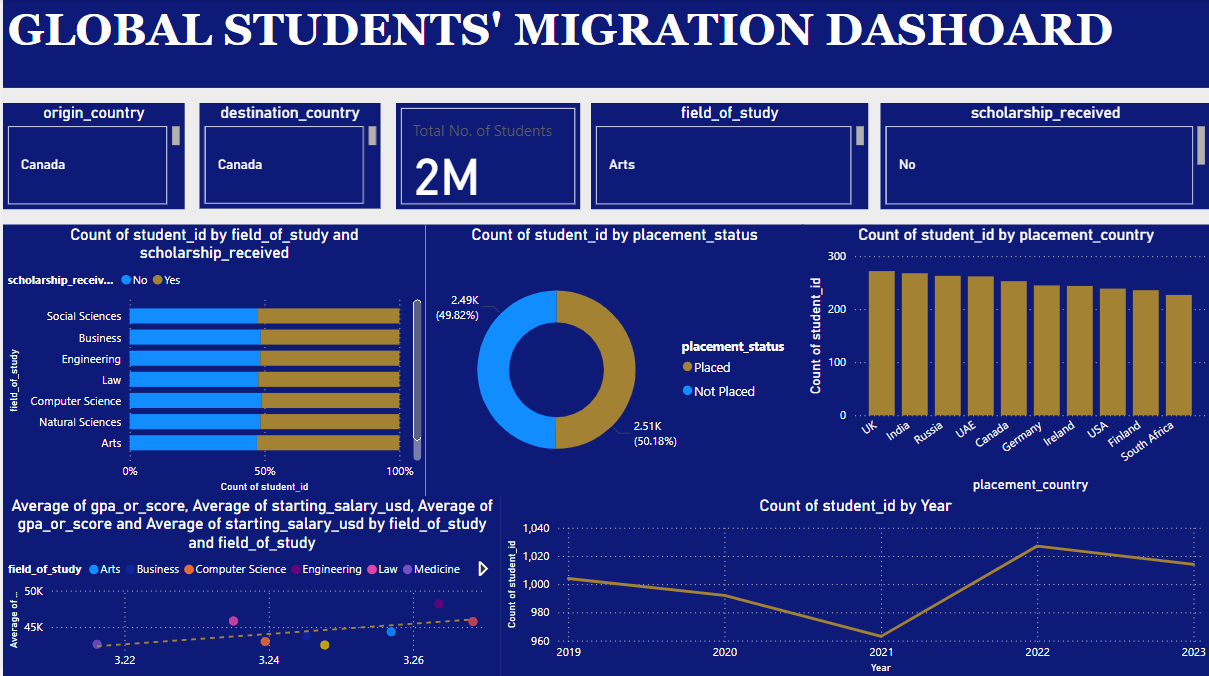

This screenshot's page, from the dashboard's own definition file:
{"tool":"powerbi","page":{"name":"Page 1","canvas":[1280,720],"ordinal":0},"visuals":[{"type":"textbox","box":[0,0,1280.4,95.4],"z":0},{"type":"advancedSlicerVisual","fields":{"Values":["global_student_migration.origin_country"]},"box":[0,109.8,195.6,112.9],"z":1000},{"type":"advancedSlicerVisual","fields":{"Values":["global_student_migration.destination_country"]},"box":[208,112,192,112],"z":2000},{"type":"advancedSlicerVisual","fields":{"Values":["global_student_migration.field_of_study"]},"box":[623.5,111.3,294.3,112.9],"z":3000},{"type":"advancedSlicerVisual","fields":{"Values":["global_student_migration.scholarship_received"]},"box":[930.5,111.3,349.9,112.9],"z":4000},{"type":"cardVisual","fields":{"Data":["global_student_migration.Total No. of Students"]},"box":[416.7,111.3,195.6,112.9],"z":5000},{"type":"hundredPercentStackedBarChart","fields":{"Category":["global_student_migration.field_of_study"],"Series":["global_student_migration.scholarship_received"],"Y":["CountNonNull(global_student_migration.student_id)"]},"box":[0,240,448,288],"z":6000},{"type":"donutChart","fields":{"Category":["global_student_migration.placement_status"],"Y":["CountNonNull(global_student_migration.student_id)"]},"box":[448,240,400,288],"z":7000},{"type":"lineChart","fields":{"Category":["global_student_migration.year_of_enrollment.Variation.Date Hierarchy.Year","global_student_migration.year_of_enrollment.Variation.Date Hierarchy.Month"],"Y":["CountNonNull(global_student_migration.student_id)"]},"box":[528,528,752,192],"z":8000},{"type":"clusteredColumnChart","fields":{"Category":["global_student_migration.placement_country"],"Y":["CountNonNull(global_student_migration.student_id)"]},"box":[848,240,432,288],"z":9000},{"type":"scatterChart","fields":{"Y":["Avg(global_student_migration.starting_salary_usd)"],"Series":["global_student_migration.field_of_study"],"Category":["global_student_migration.field_of_study"],"X":["Avg(global_student_migration.gpa_or_score)"]},"box":[0,528,528,192],"z":10000}]}

Visuals, with their boxes in screenshot pixels (x1, y1, x2, y2), scaled from the page's 1280x720 canvas onto the 1209x676 screenshot:
textbox: 0, 0, 1208, 90
advancedSlicerVisual - global_student_migration.origin_country: 0, 103, 185, 209
advancedSlicerVisual - global_student_migration.destination_country: 196, 105, 378, 210
advancedSlicerVisual - global_student_migration.field_of_study: 589, 104, 867, 210
advancedSlicerVisual - global_student_migration.scholarship_received: 879, 104, 1208, 210
cardVisual - global_student_migration.Total No. of Students: 394, 104, 578, 210
hundredPercentStackedBarChart - global_student_migration.field_of_study x global_student_migration.scholarship_received: 0, 225, 423, 496
donutChart - global_student_migration.placement_status x CountNonNull(global_student_migration.student_id): 423, 225, 801, 496
lineChart - global_student_migration.year_of_enrollment.Variation.Date Hierarchy.Year x global_student_migration.year_of_enrollment.Variation.Date Hierarchy.Month: 499, 496, 1208, 675
clusteredColumnChart - global_student_migration.placement_country x CountNonNull(global_student_migration.student_id): 801, 225, 1208, 496
scatterChart - Avg(global_student_migration.starting_salary_usd) x global_student_migration.field_of_study: 0, 496, 499, 675
